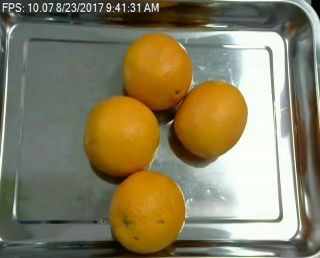Orange: (109, 169, 186, 254), (174, 77, 248, 160), (84, 95, 160, 175), (122, 34, 194, 112)
